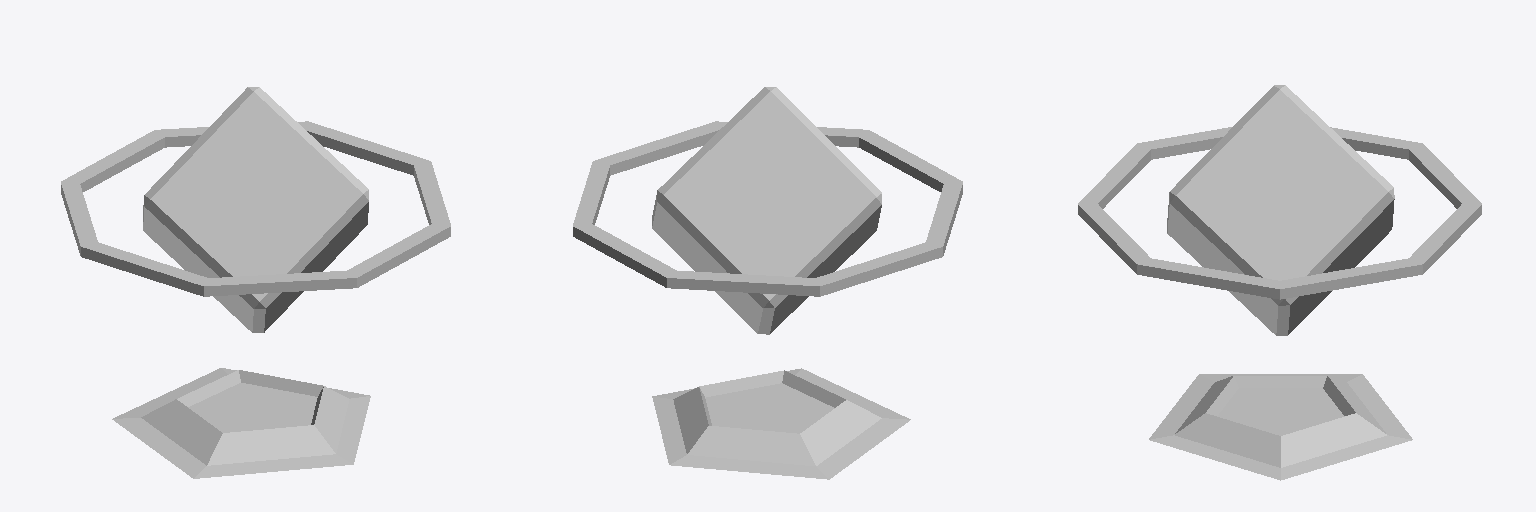
The model's file is Core.obj.
3 renders of one model, left to right at view 1: azimuth 30°, elevation 25°; view 2: azimuth 150°, elevation 25°; view 3: azimuth 270°, elevation 25°, orthographic.
Visible parts, largest first — view 1: Core1; view 2: Core1; view 3: Core1.
Part boxes in pixels (left/top/right/bottom): Core1: left=61, top=87, right=450, bottom=478; Core1: left=573, top=87, right=962, bottom=479; Core1: left=1078, top=85, right=1481, bottom=480.
Bounding box in the file's own units: 3.26 × 2.99 × 3.26.